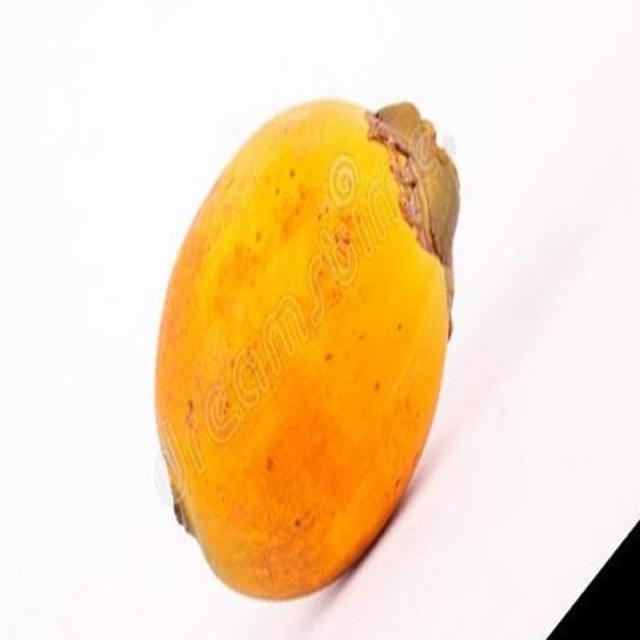good: (152, 98, 461, 604)
